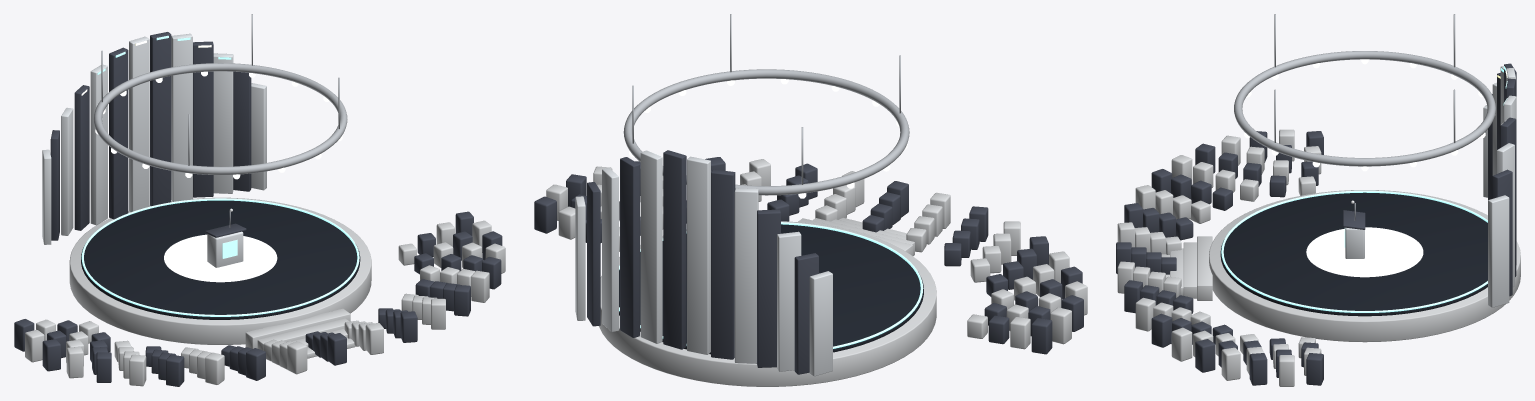
Rendered from assembly.glb.
3 views of the same model, side by side, from view 1: azimuth 30°, elevation 25°; view 2: azimuth 150°, elevation 25°; view 3: azimuth 270°, elevation 25° (orthographic). The views are drawn at different scales.
Visible parts, largest first — view 1: assembly_Graphite, assembly_DarkPanel, assembly_HullWarm, assembly_Hull, assembly_Steel, assembly_Ice, assembly_Cyan, assembly_WhiteLight; view 2: assembly_Graphite, assembly_Hull, assembly_HullWarm, assembly_DarkPanel, assembly_Steel, assembly_Cyan; view 3: assembly_HullWarm, assembly_DarkPanel, assembly_Graphite, assembly_Steel, assembly_Hull, assembly_Ice, assembly_Cyan, assembly_WhiteLight.
Boxes of the visible parts, bbox=[...] form: assembly_Graphite: bbox=[14, 32, 502, 386]; assembly_DarkPanel: bbox=[81, 200, 360, 319]; assembly_HullWarm: bbox=[25, 197, 505, 386]; assembly_Hull: bbox=[42, 33, 266, 267]; assembly_Steel: bbox=[93, 14, 347, 227]; assembly_Ice: bbox=[164, 234, 277, 282]; assembly_Cyan: bbox=[81, 35, 359, 316]; assembly_WhiteLight: bbox=[95, 71, 342, 179]; assembly_Graphite: bbox=[534, 150, 1083, 374]; assembly_Hull: bbox=[575, 150, 832, 376]; assembly_HullWarm: bbox=[546, 159, 1087, 386]; assembly_DarkPanel: bbox=[619, 224, 923, 354]; assembly_Steel: bbox=[623, 14, 909, 195]; assembly_Cyan: bbox=[619, 222, 923, 348]; assembly_HullWarm: bbox=[1117, 129, 1520, 386]; assembly_DarkPanel: bbox=[1220, 192, 1487, 316]; assembly_Graphite: bbox=[1116, 63, 1516, 385]; assembly_Steel: bbox=[1234, 14, 1495, 220]; assembly_Hull: bbox=[1345, 66, 1516, 307]; assembly_Ice: bbox=[1306, 227, 1423, 277]; assembly_Cyan: bbox=[1221, 66, 1507, 312]; assembly_WhiteLight: bbox=[1234, 59, 1485, 171].
Bounding box in the file's own units: 28.16 × 12.7 × 20.76.
